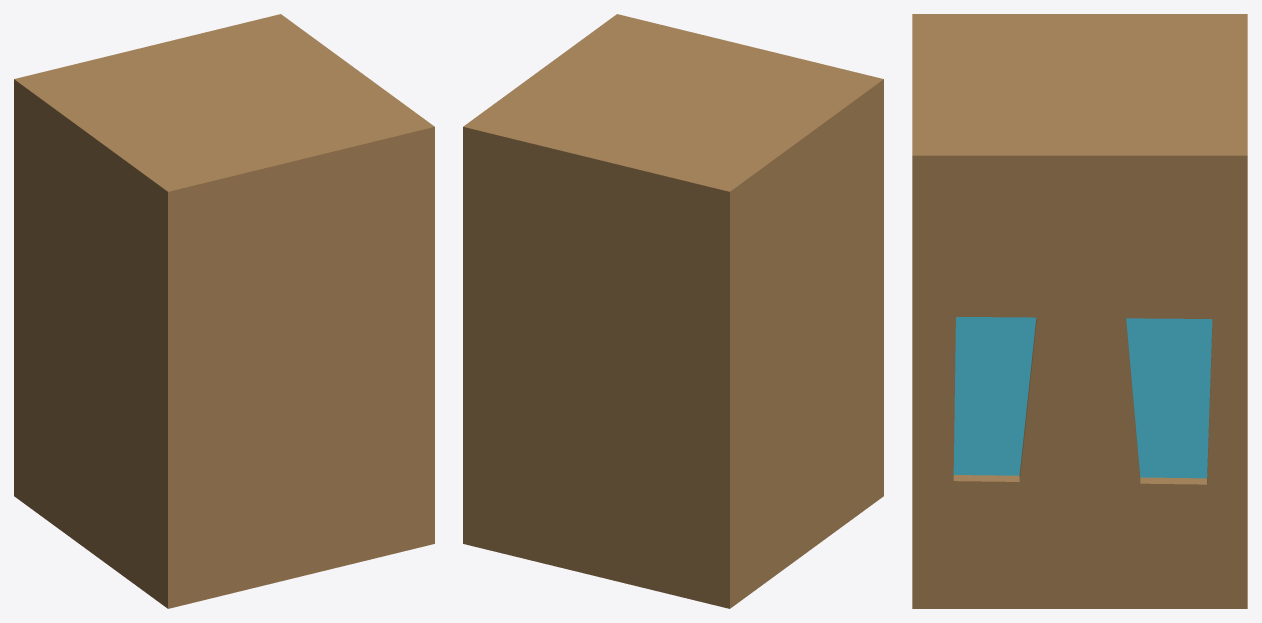
Rendered from Building1.fbx.
3 views of the same model, side by side, from view 1: azimuth 30°, elevation 25°; view 2: azimuth 150°, elevation 25°; view 3: azimuth 270°, elevation 25° (orthographic). The views are drawn at different scales.
Parts seen in each view (by area): view 1: Building1; view 2: Building1; view 3: Building1.
Boxes of the visible parts, x1,y1,x2,y2 form: Building1: [14, 14, 434, 608]; Building1: [463, 14, 883, 608]; Building1: [912, 14, 1247, 608].
Size of the model in its own units: 399 by 596 by 399.
